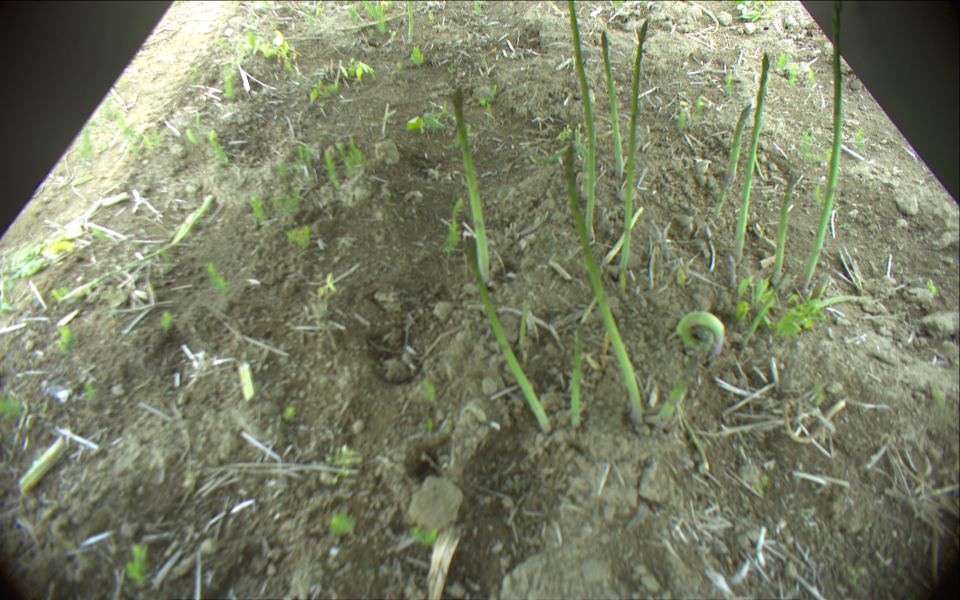aspa: (567, 139, 646, 427), (463, 235, 551, 434), (60, 195, 213, 301), (802, 1, 842, 290), (734, 52, 770, 258), (452, 89, 490, 283), (621, 19, 647, 283), (568, 1, 597, 237), (712, 103, 752, 219), (657, 341, 708, 426), (601, 28, 623, 179), (333, 1, 431, 30), (604, 205, 645, 268), (774, 170, 794, 281), (676, 311, 726, 355), (571, 324, 585, 425), (810, 295, 870, 310), (405, 1, 413, 43)
